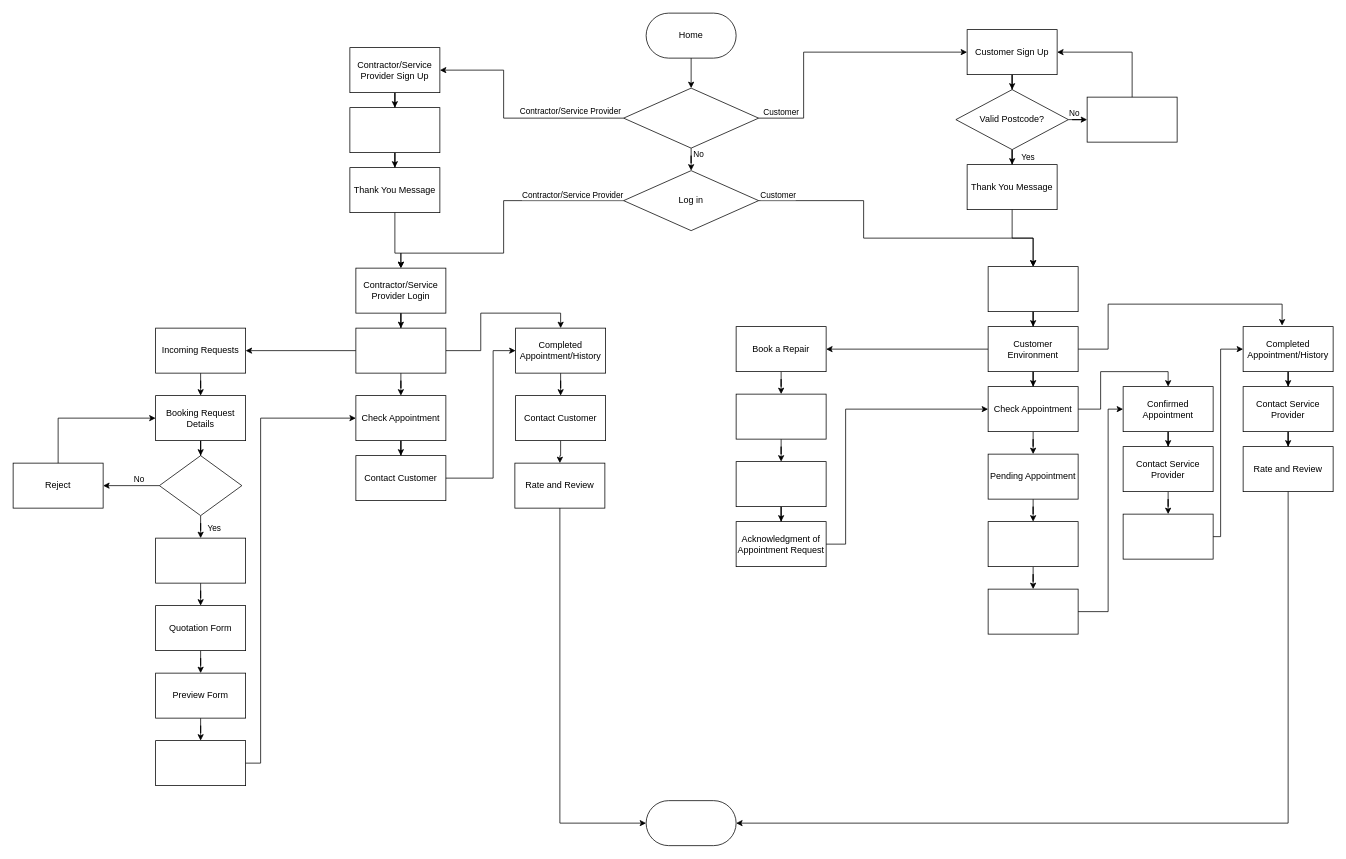
The diagram is 1346 pixels wide and 859 high, and some of its shapes have lost their labels. Here are the shapes that lost their labels. From the top down, the centre of each, then its label:
At point (394, 130): "Contractor/Service Provider Sign Up Form".
At point (691, 117): "Sign up".
At point (1131, 119): "Invalid Postcode".
At point (1032, 289): "Customer Login".
At point (400, 350): "Contractor/Service Provider Environment".
At point (780, 416): "Service Selection".
At point (200, 485): "Approve?".
At point (780, 484): "Appointment request Form".
At point (1032, 544): "Edit, Cancel, and Quotation".
At point (1167, 536): "Mark Complete".
At point (200, 560): "Submit Quotation".
At point (1032, 611): "Quote Details, Contact Service Provider, and Accept Booking".
At point (200, 763): "Submit Form".
At point (690, 823): "End".
